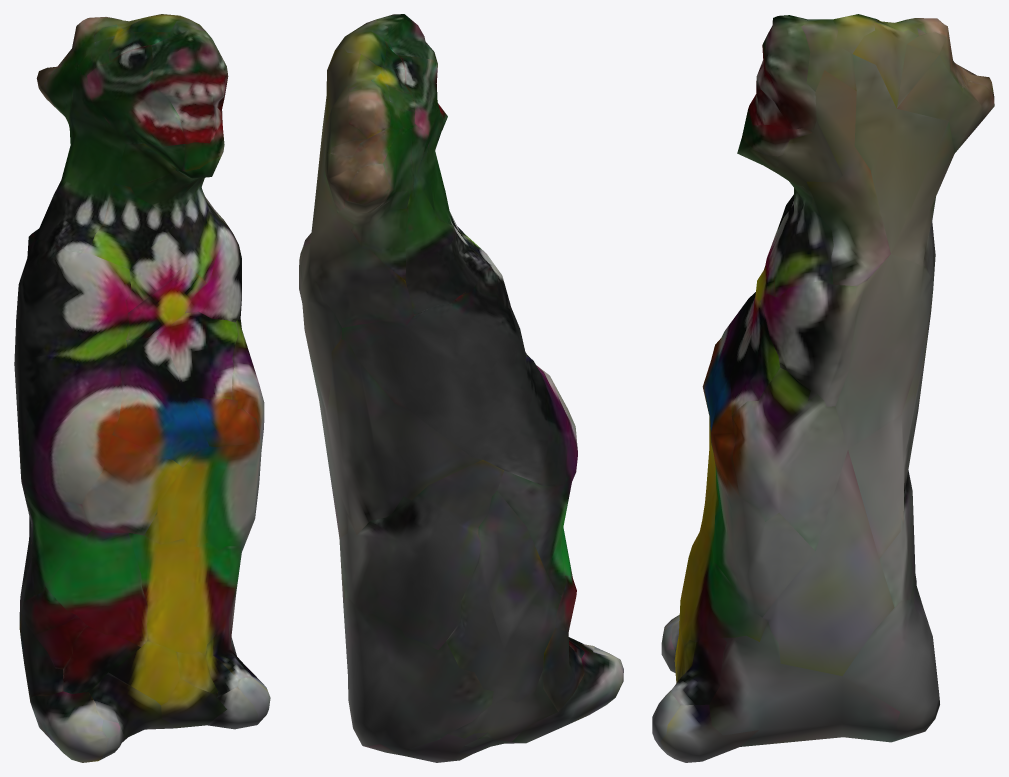
The model's file is hall.glb.
3 renders of one model, left to right at view 1: azimuth 30°, elevation 25°; view 2: azimuth 150°, elevation 25°; view 3: azimuth 270°, elevation 25°, orthographic. The views are drawn at different scales.
Size of the model in its own units: 0.3442 by 0.909 by 0.3724.
1 material, 1 textured.
